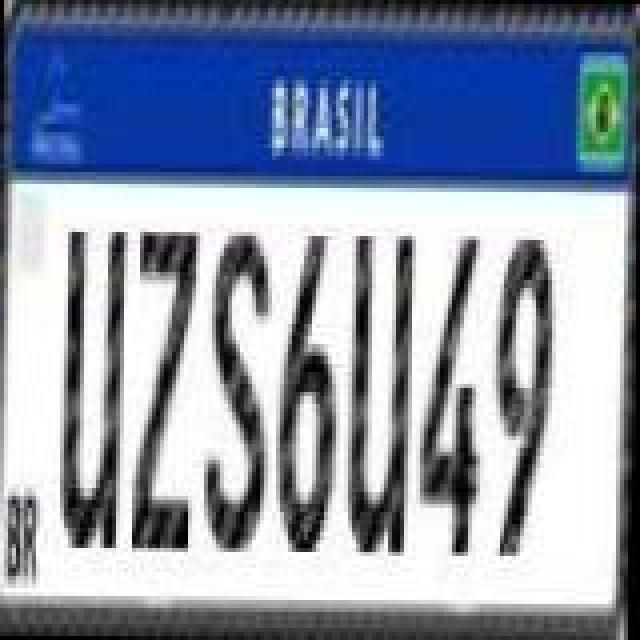4: (414, 232, 486, 556)
6: (274, 224, 346, 560)
9: (488, 234, 556, 558)
S: (204, 228, 280, 552)
U: (58, 220, 130, 556), (346, 226, 418, 562)
Z: (130, 222, 202, 558)
